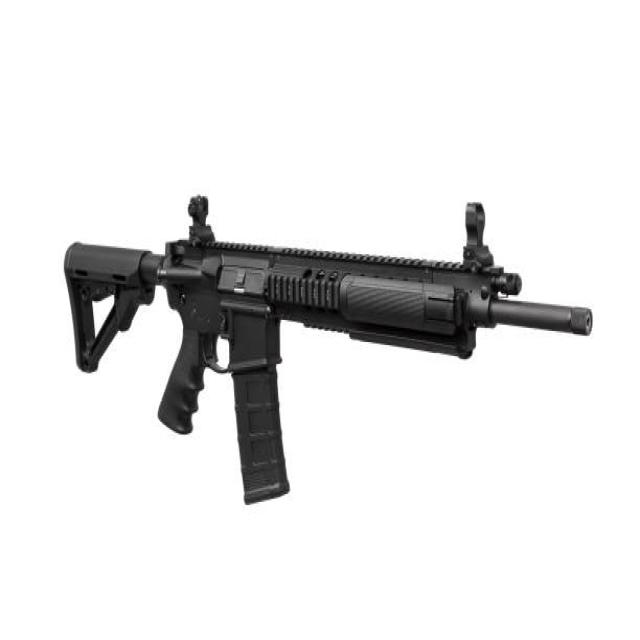rifle: (58, 179, 602, 523)
